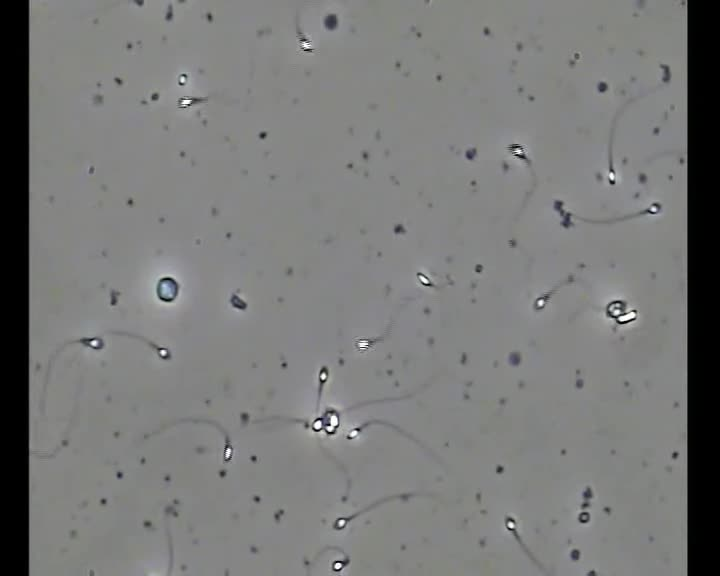spermhead: (156, 276, 178, 302), (322, 408, 339, 434), (605, 300, 626, 319), (229, 290, 247, 310), (508, 143, 527, 160), (615, 310, 637, 324), (81, 336, 104, 349), (323, 12, 338, 31), (331, 557, 349, 572), (298, 35, 313, 52), (416, 272, 434, 286), (533, 294, 547, 310), (355, 338, 372, 351), (223, 440, 233, 461), (660, 64, 671, 83), (177, 96, 194, 108), (156, 346, 171, 359), (164, 503, 177, 517), (646, 202, 661, 214), (311, 416, 323, 431), (505, 516, 516, 532), (561, 211, 572, 227), (318, 366, 328, 383), (333, 517, 347, 529), (553, 199, 565, 213), (347, 427, 360, 439), (578, 510, 590, 523), (607, 168, 616, 185), (177, 73, 187, 85), (565, 273, 575, 284), (303, 557, 312, 568), (302, 420, 310, 429), (340, 494, 348, 502), (142, 432, 149, 440)
